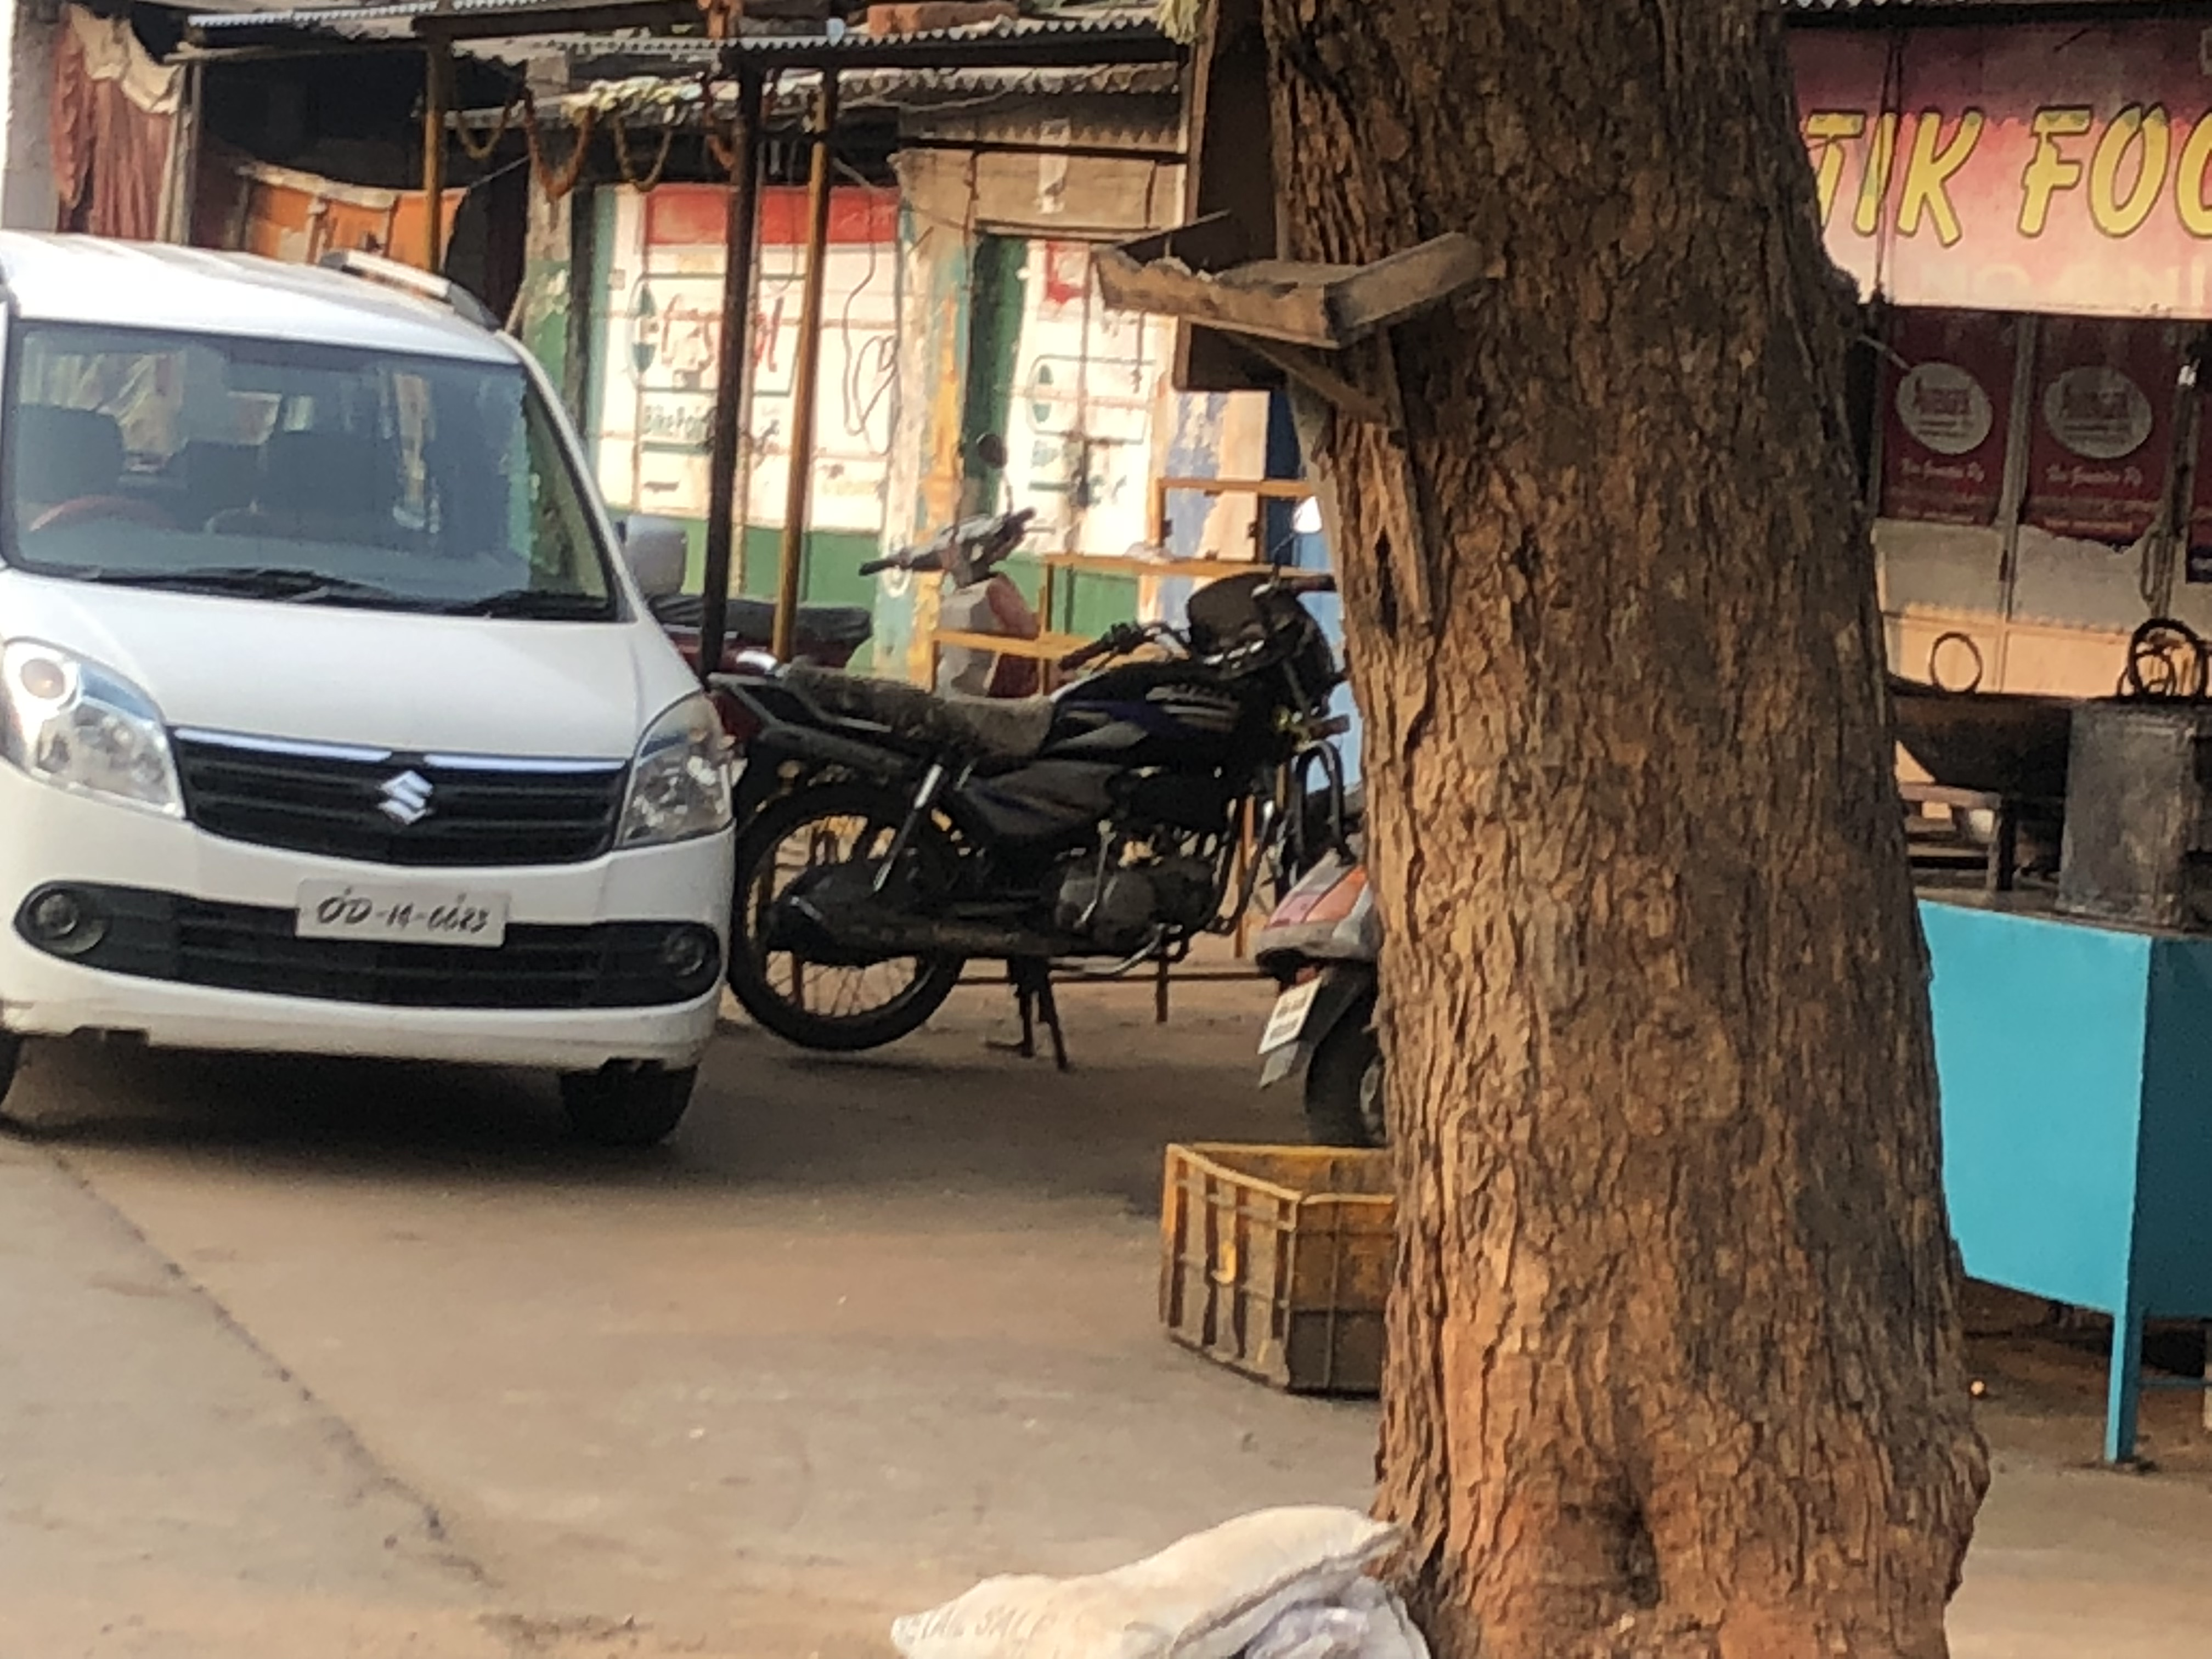licenseplate: (284, 865, 518, 962)
